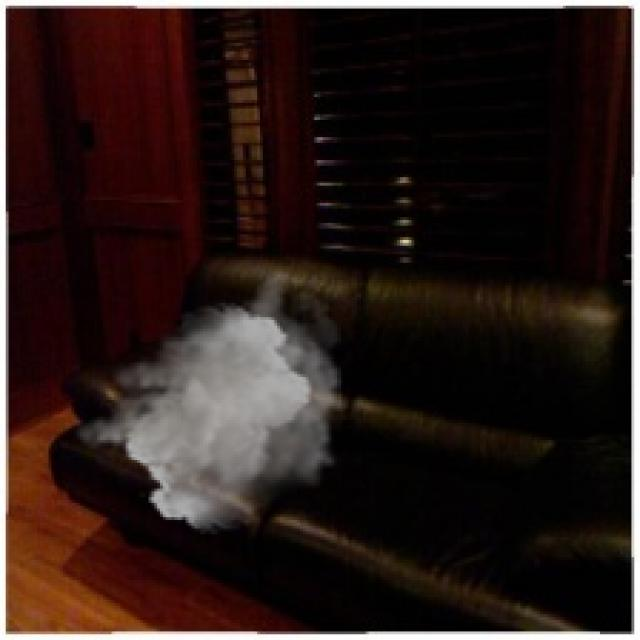smoke: (72, 269, 348, 534)
